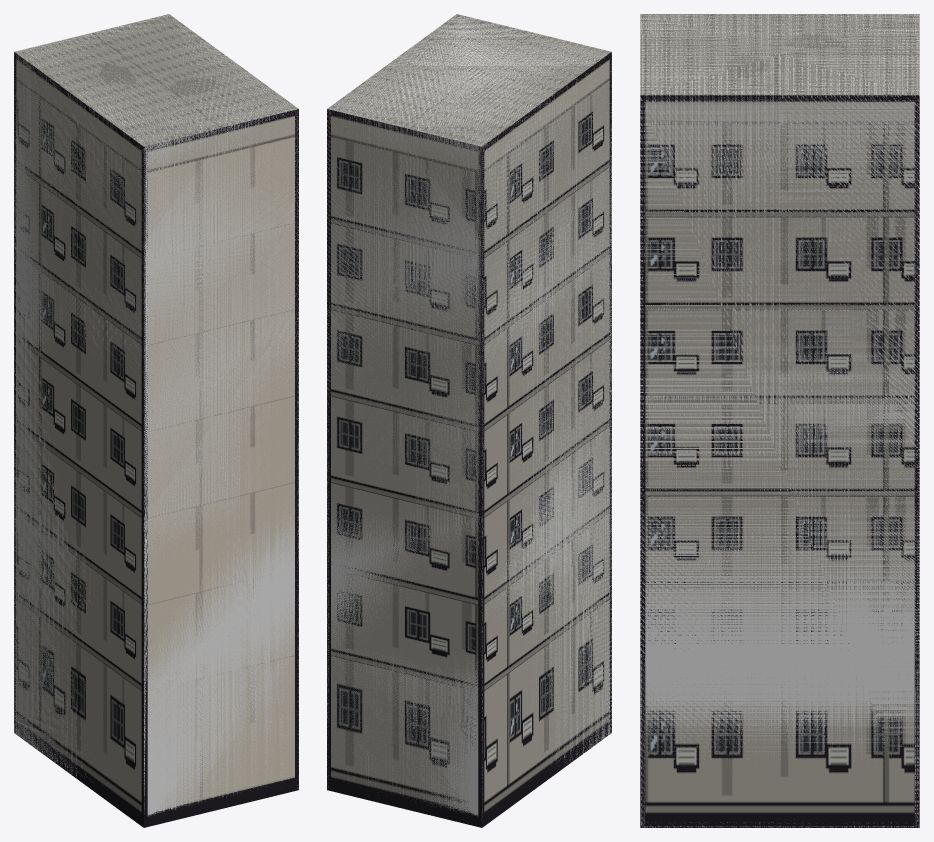
3 views of the same model, side by side, from view 1: azimuth 30°, elevation 25°; view 2: azimuth 150°, elevation 25°; view 3: azimuth 270°, elevation 25° (orthographic). The views are drawn at different scales.
Visible parts, largest first — view 1: 19D-W14, COL_19D-W14_0; view 2: 19D-W14, COL_19D-W14_0; view 3: 19D-W14, COL_19D-W14_0.
Boxes of the visible parts, x1,y1,x2,y2 form: 19D-W14: [14, 14, 298, 827]; COL_19D-W14_0: [14, 14, 298, 816]; 19D-W14: [327, 14, 611, 827]; COL_19D-W14_0: [327, 14, 611, 819]; 19D-W14: [640, 14, 919, 827]; COL_19D-W14_0: [640, 14, 919, 827].
Bounding box in the file's own units: 6 × 25.2 × 8.7.
Materials: 1 (1 with a texture image).
